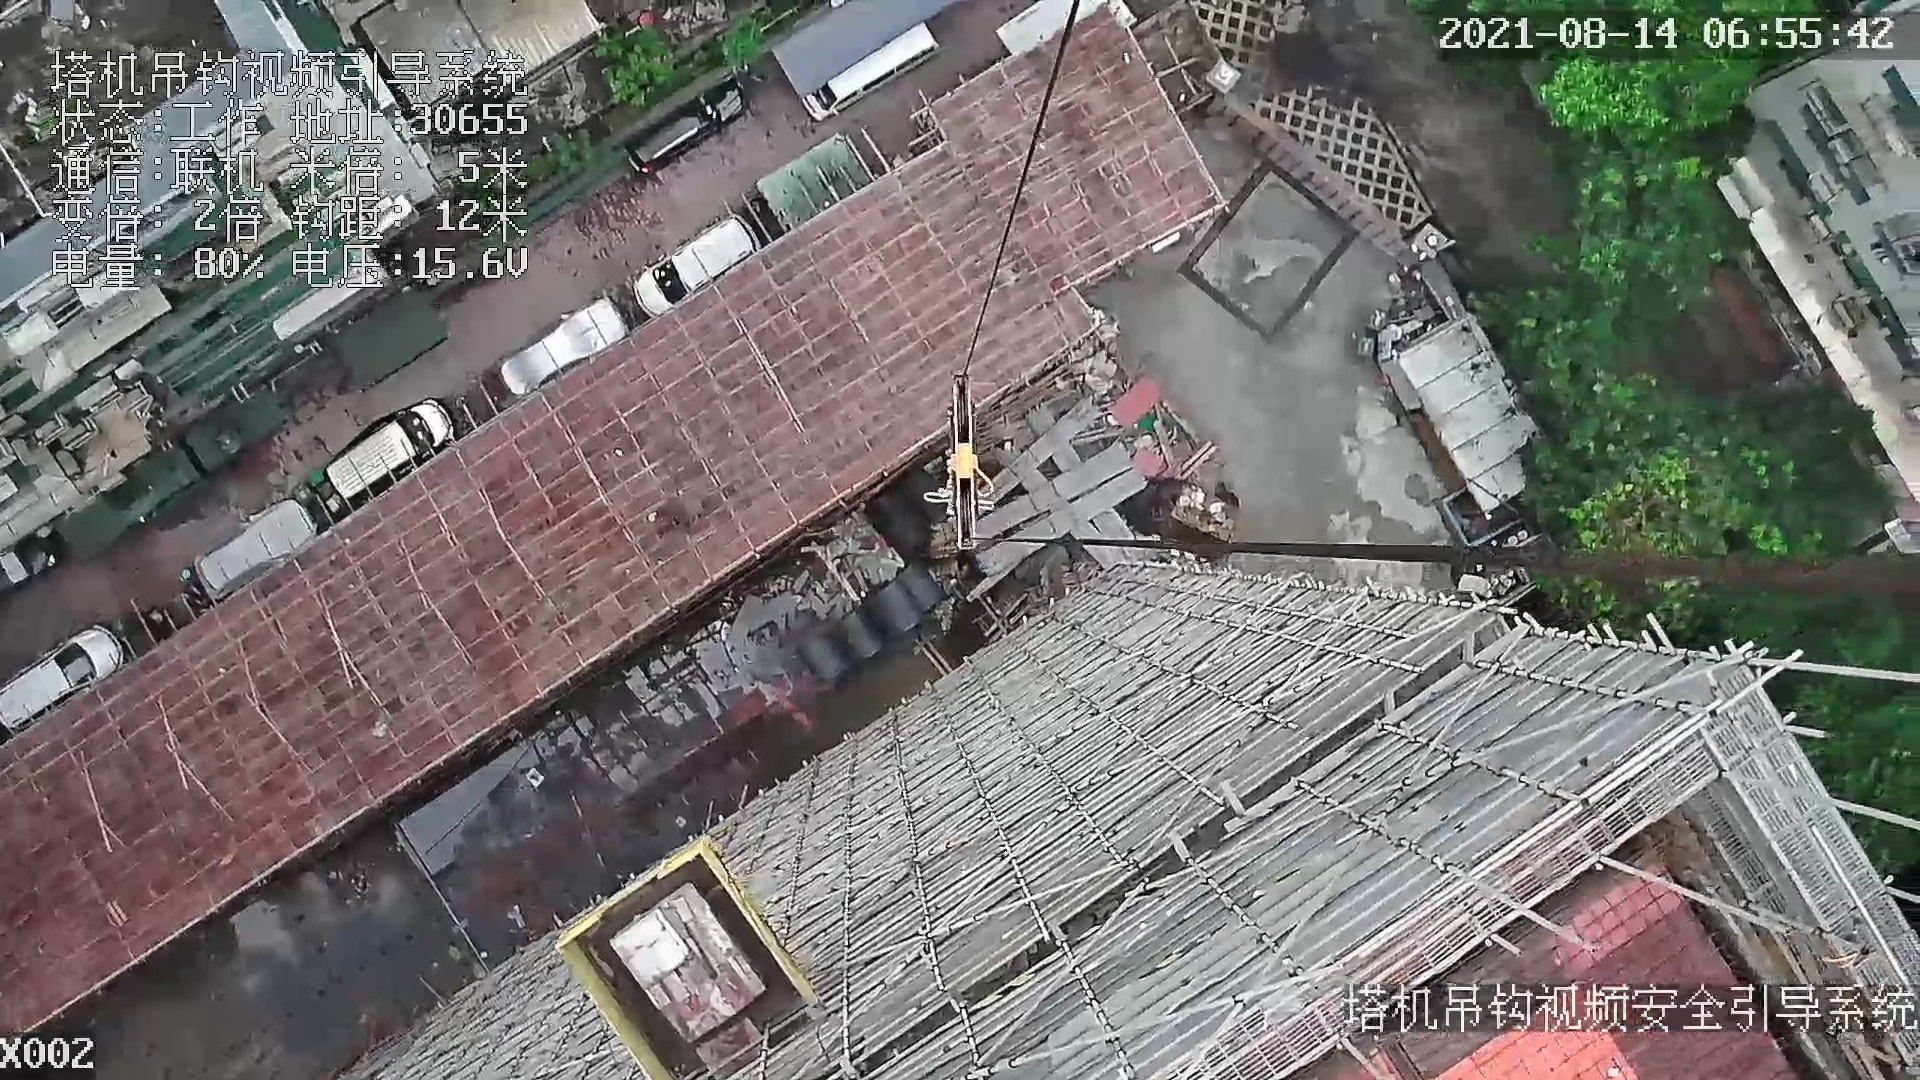board: (609, 884, 765, 1043)
hook: (942, 372, 997, 553)
rebar: (978, 469, 1149, 575), (978, 440, 1133, 537), (982, 400, 1101, 502), (1071, 521, 1116, 568), (1093, 509, 1135, 555)
